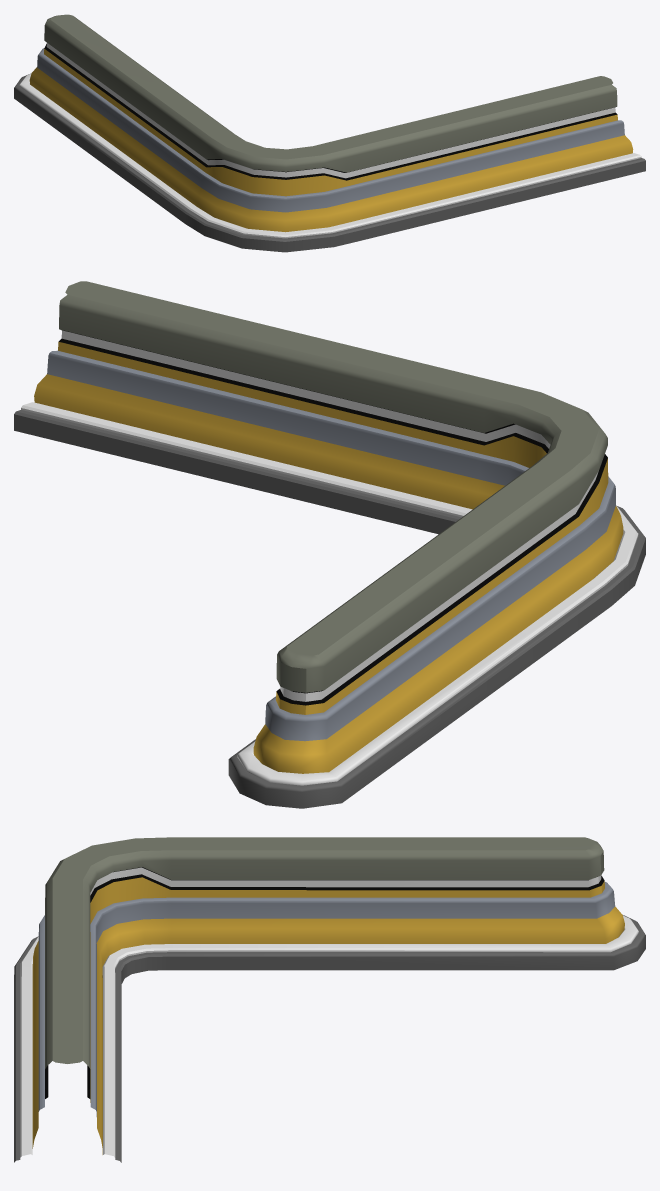
File: Level6_Small_walls.fbx
The picture shows the model from 3 angles, top to bottom: view 1: azimuth 30°, elevation 25°; view 2: azimuth 150°, elevation 25°; view 3: azimuth 270°, elevation 25°; orthographic projection. The views are drawn at different scales.
Parts seen in each view (by area): view 1: Small_wall_L2; view 2: Small_wall_L2; view 3: Small_wall_L2.
Boxes of the visible parts, <box> form: Small_wall_L2: <box>14,14,645,252</box>; Small_wall_L2: <box>14,281,645,808</box>; Small_wall_L2: <box>14,837,645,1162</box>.
Bounding box in the file's own units: 191 × 37.08 × 202.
